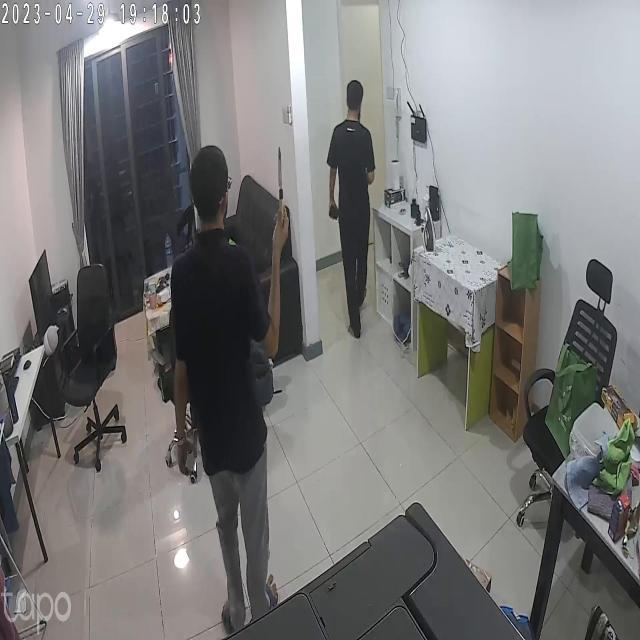Knife: (269, 144, 303, 203)
